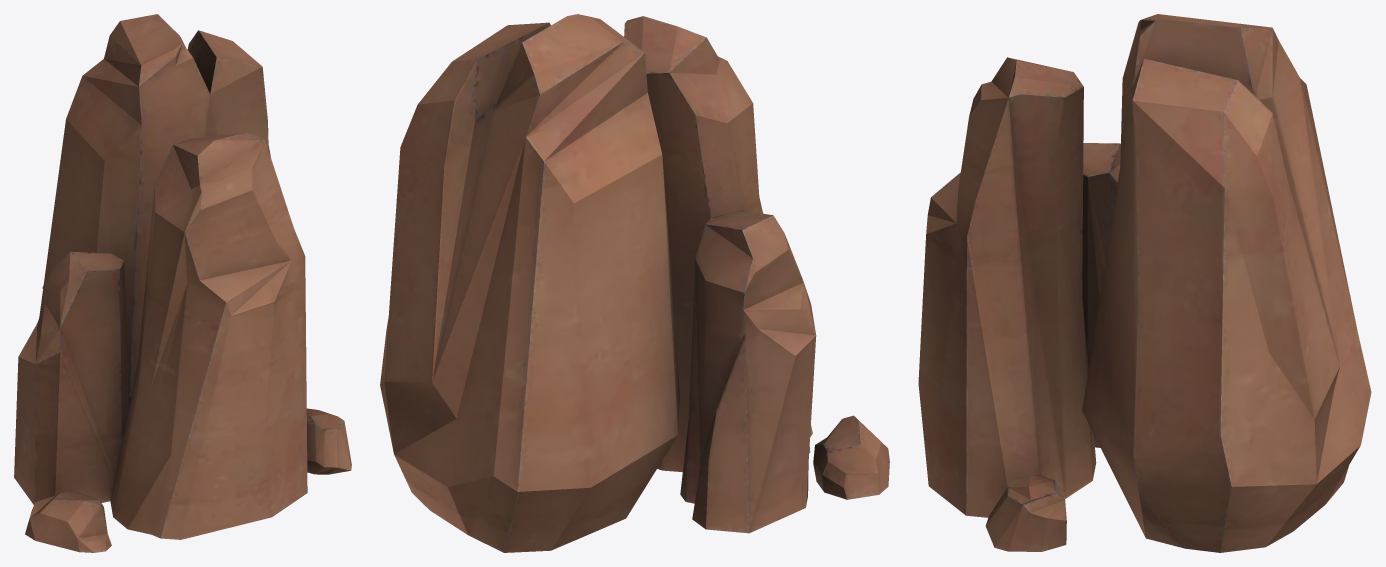
3 renders of one model, left to right at view 1: azimuth 30°, elevation 25°; view 2: azimuth 150°, elevation 25°; view 3: azimuth 270°, elevation 25°, orthographic. The views are drawn at different scales.
Visible parts, largest first — view 1: body0_model0_lod0_mesh0; view 2: body0_model0_lod0_mesh0; view 3: body0_model0_lod0_mesh0.
Boxes of the visible parts, x1=… form: body0_model0_lod0_mesh0: x1=14, y1=14, x2=351, y2=552; body0_model0_lod0_mesh0: x1=380, y1=14, x2=889, y2=552; body0_model0_lod0_mesh0: x1=918, y1=14, x2=1371, y2=552.
Bounding box in the file's own units: 288 × 321 × 278.
Materials: 1 (1 with a texture image).
